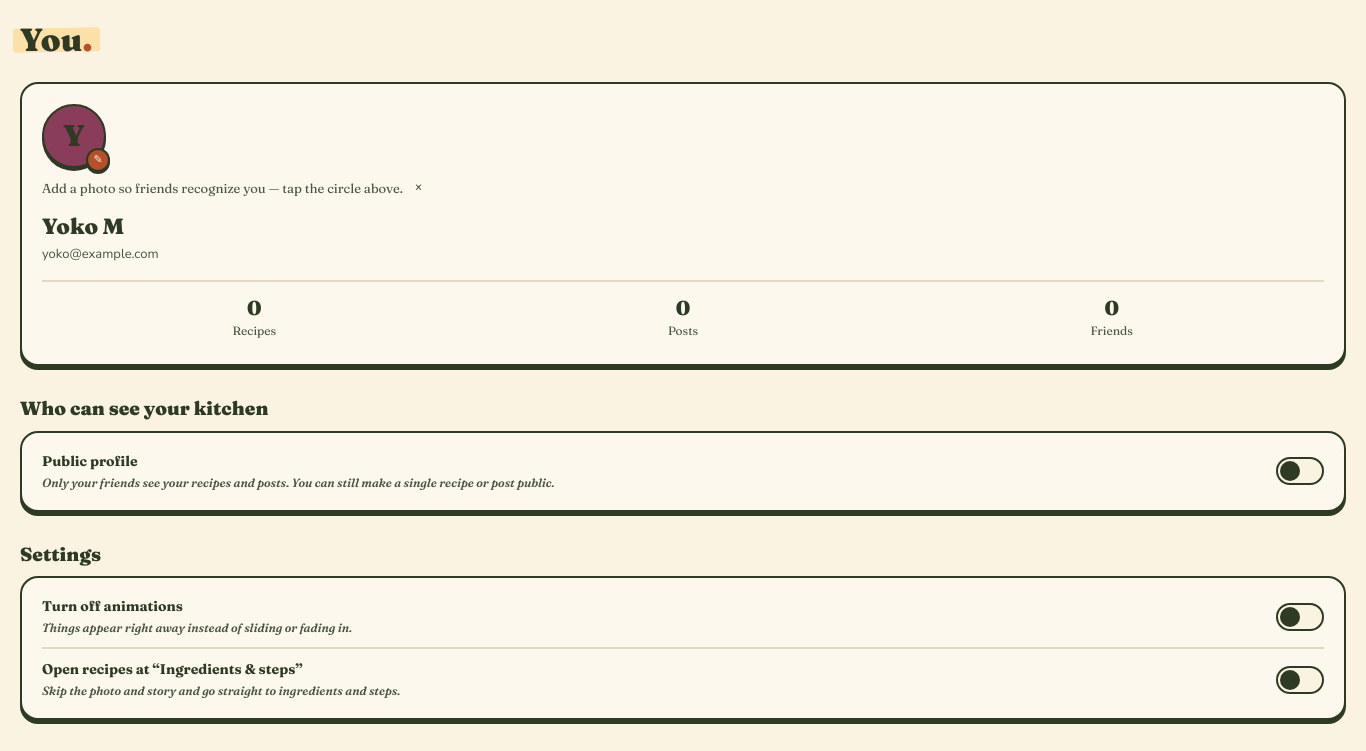
Test: Profile identity-box counts (#74) › nudges a photo-less user to add one, dismissibly (#77)
The width and height of the screenshot is (1366, 751).
Expected: the text "Add a photo so friends recognize you — tap the circle above." is shown, [42,180,403,198]
Click the button named "dismiss": [419, 187] box [411,180,426,194]
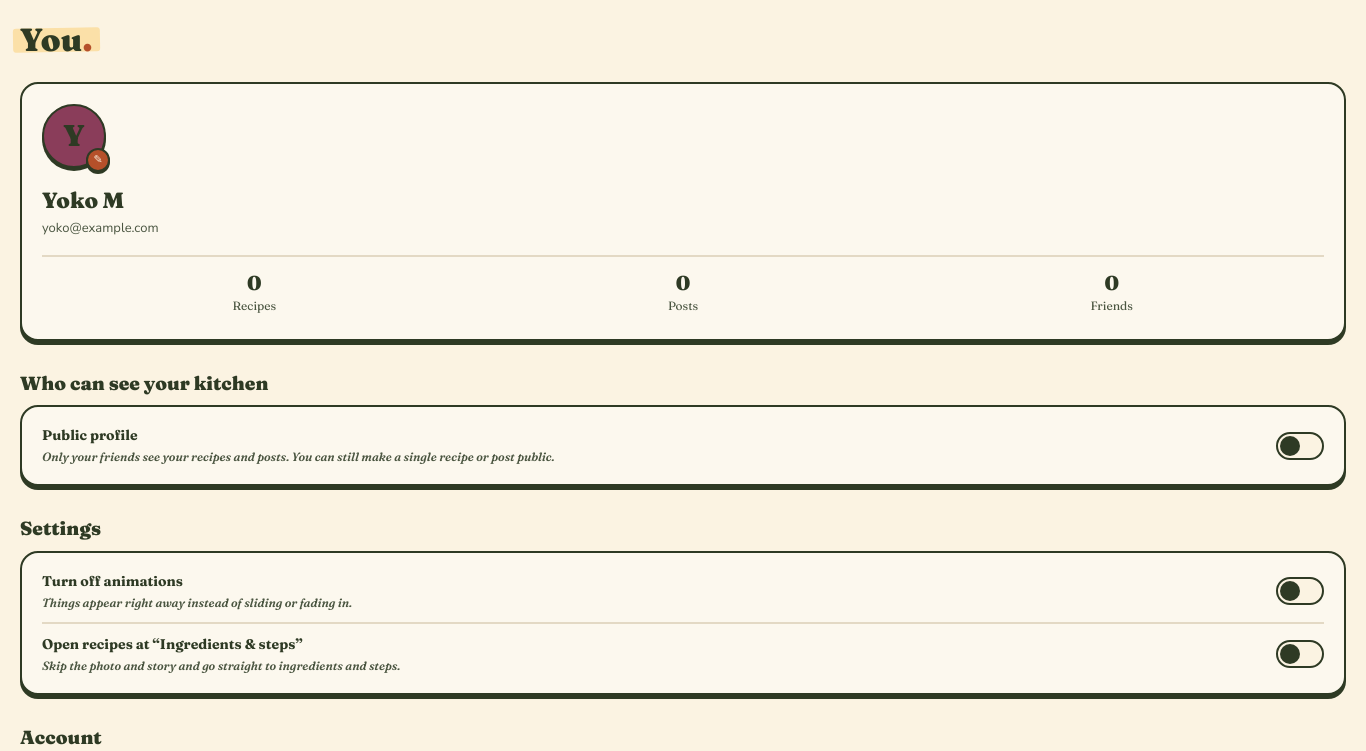
Now the text "Add a photo so friends recognize you" is gone
